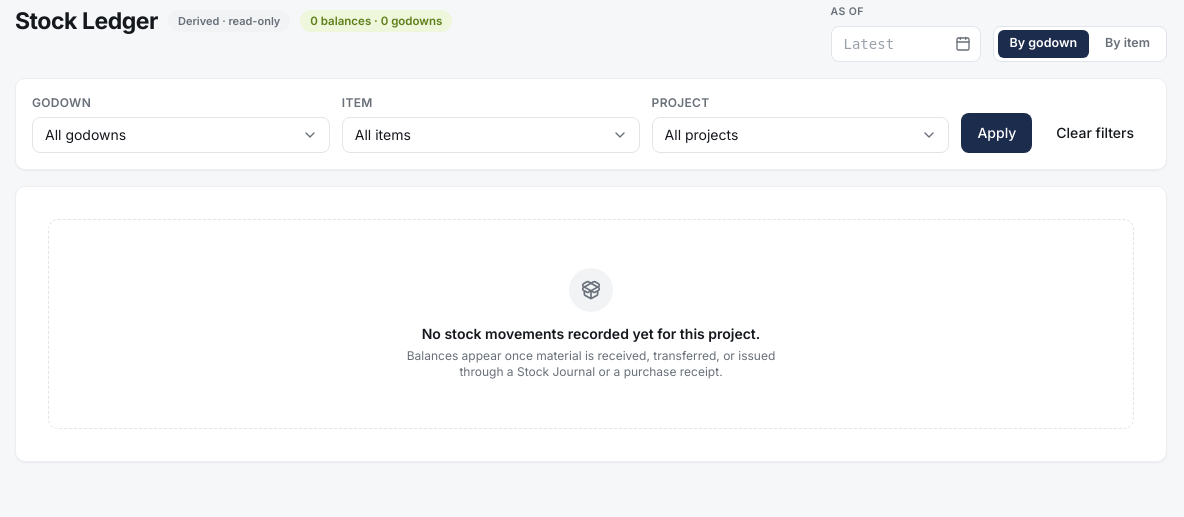
StockLedgerScreen — balances (spec §4.A/§5) › shows the filtered empty state when filters match nothing
Select "G-Site-A — Site A store" in the dropdown with test id "sl-f-godown" at (181, 135), box [32, 117, 330, 153]
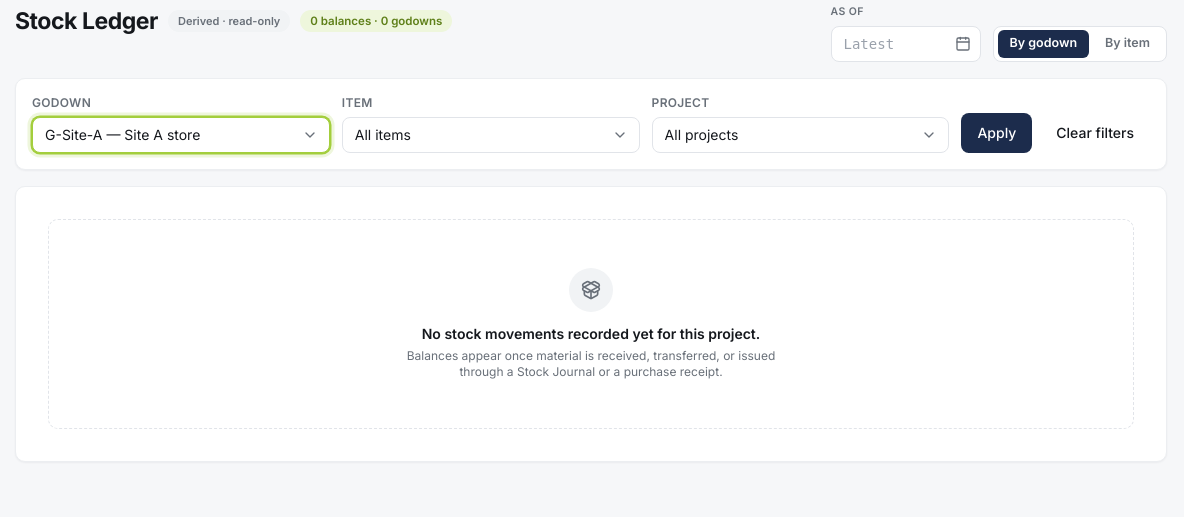
Click the button with test id "sl-f-apply" at (997, 133), box [961, 113, 1032, 153]
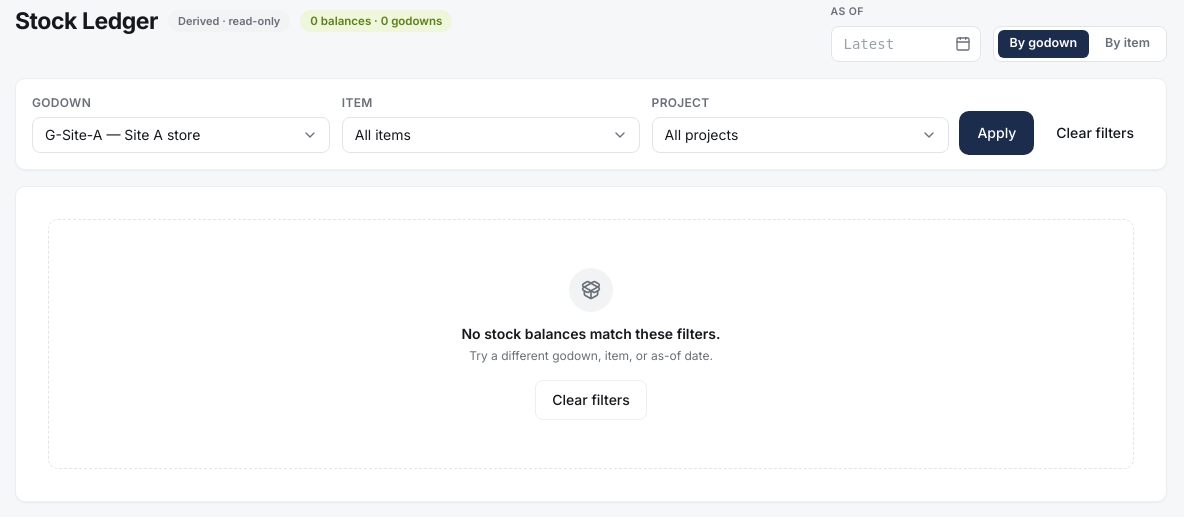
Check: the element with test id "sl-empty-filtered" is shown, box [16, 187, 1166, 501]
Check: the text "No stock balances match these filters." is shown, box [462, 324, 721, 344]
